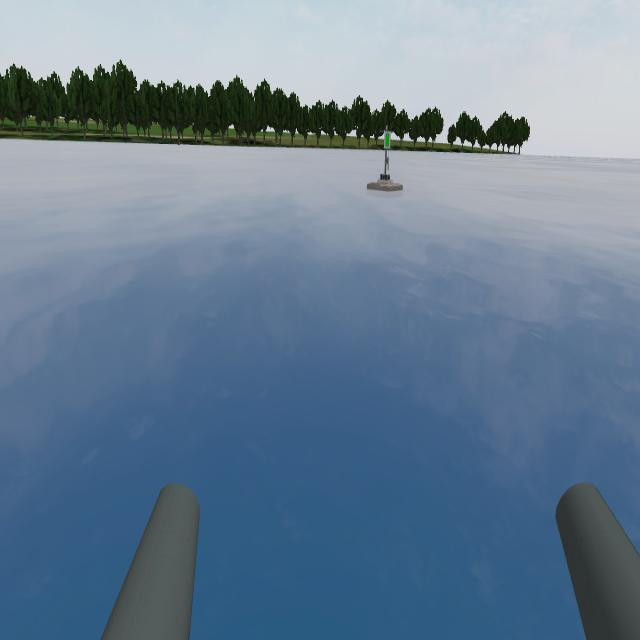green_pole: (384, 124, 390, 150)
